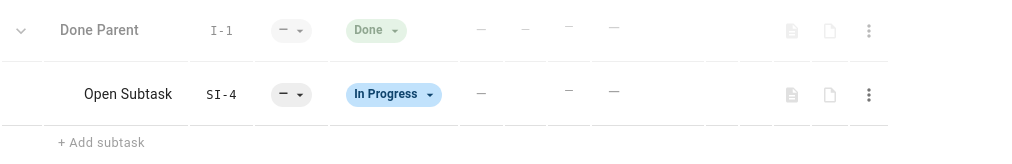
Test: TaskBoardRow ghost + dimmed › dims a row with opacity only, leaving it editable
Click the text "Done Parent".
click(99, 30)  # box [60,22,139,38]
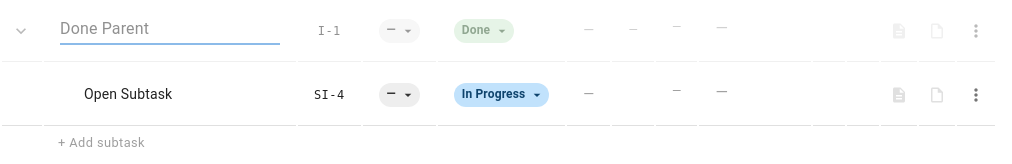
Expected: the field showing "Done Parent" is shown, [60,16,280,45]
